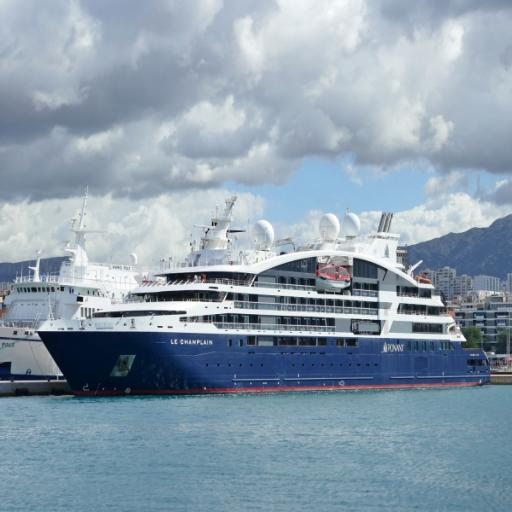cruises: (34, 195, 494, 393)
